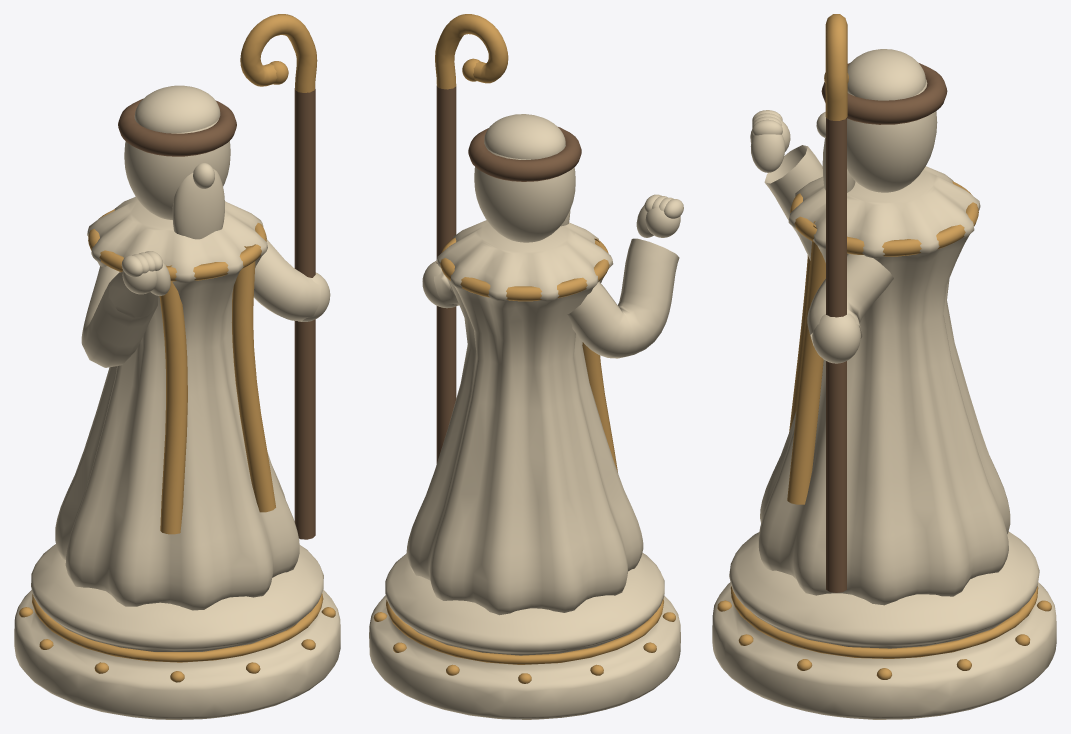
File: priest.glb
3 views of the same model, side by side, from view 1: azimuth 30°, elevation 25°; view 2: azimuth 150°, elevation 25°; view 3: azimuth 270°, elevation 25° (orthographic). The views are drawn at different scales.
Parts seen in each view (by area): view 1: PIECE_Priest_Sculpture, PIECE_Priest_Base; view 2: PIECE_Priest_Sculpture, PIECE_Priest_Base; view 3: PIECE_Priest_Sculpture, PIECE_Priest_Base.
Part boxes in pixels (x1,y1,x2,y2): PIECE_Priest_Sculpture: (55,14,330,610); PIECE_Priest_Base: (14,544,340,719); PIECE_Priest_Sculpture: (406,14,683,615); PIECE_Priest_Base: (369,552,680,719); PIECE_Priest_Sculpture: (750,14,1010,605); PIECE_Priest_Base: (712,531,1056,719).
Bounding box in the file's own units: 0.719 × 1.55 × 0.719.
